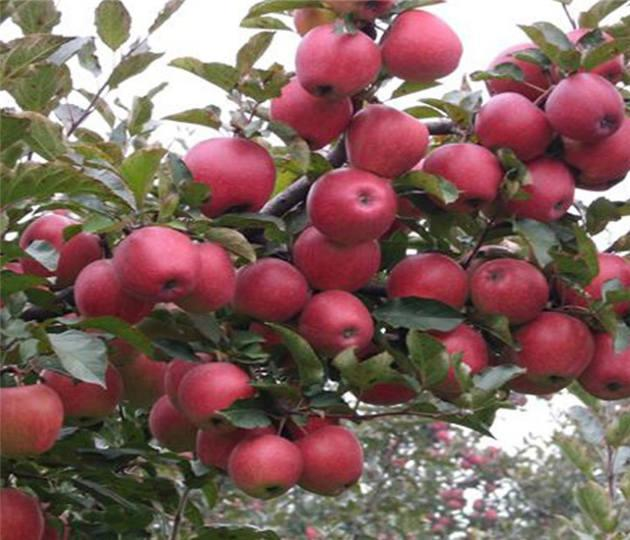apple: (183, 134, 277, 216), (309, 167, 399, 246), (294, 21, 381, 101), (112, 225, 199, 304), (344, 102, 428, 178), (288, 226, 382, 293), (175, 360, 260, 433), (39, 357, 125, 429), (474, 90, 554, 166), (380, 6, 461, 81), (386, 250, 470, 322), (268, 81, 352, 150), (515, 313, 591, 388), (544, 72, 626, 141), (469, 258, 550, 326), (293, 424, 365, 500), (422, 143, 501, 212), (297, 290, 375, 357), (232, 256, 311, 322), (228, 432, 303, 497), (1, 383, 63, 457), (506, 157, 574, 223), (578, 324, 630, 401), (1, 488, 47, 539)
